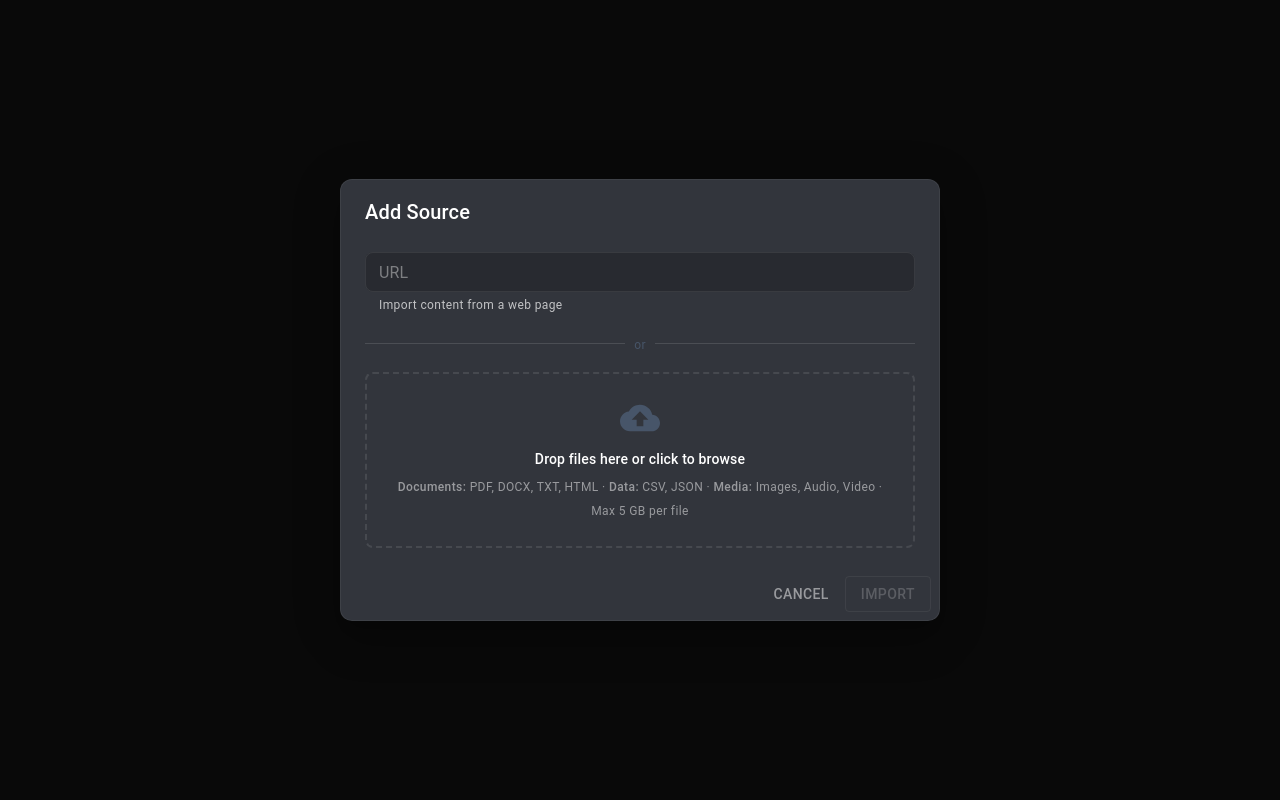
Test: <UploadDialog /> site offer › cannot import a site with every page deselected
Type "https://docs.example.com/docs" into the field labelled "URL" at (640, 272), box [365, 252, 915, 292]
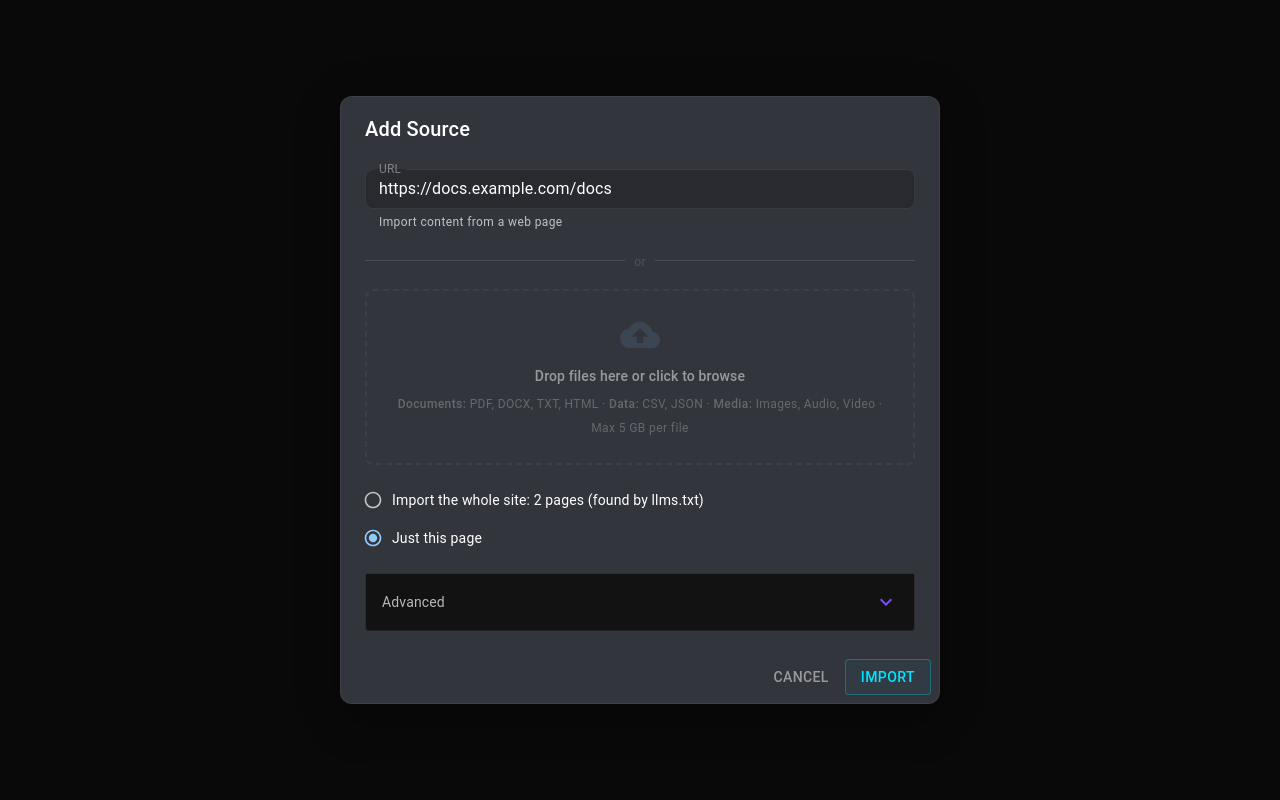
Click the radio button labelled "Import the whole site: 2 pages (found by llms.txt)" at (533, 500), box [363, 490, 704, 510]
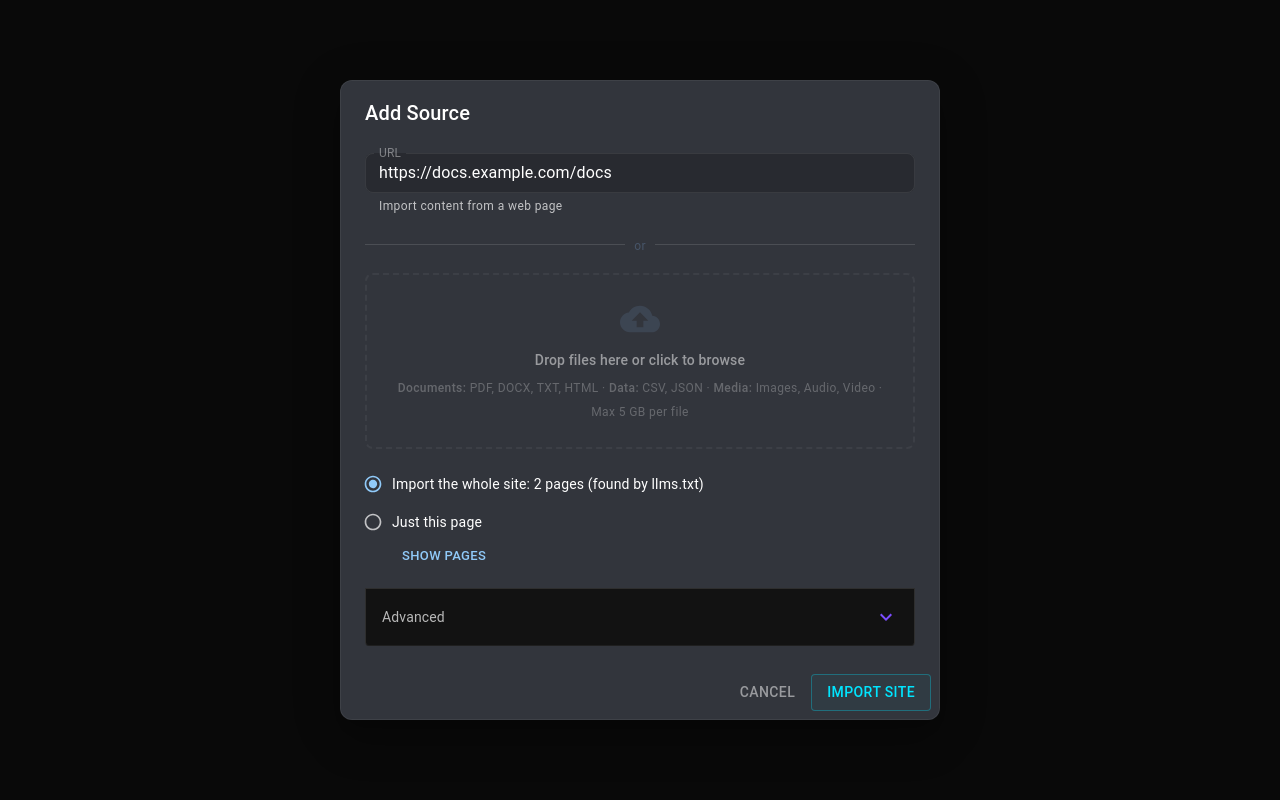
Click the button "Show pages" at (444, 557), box [397, 541, 491, 572]
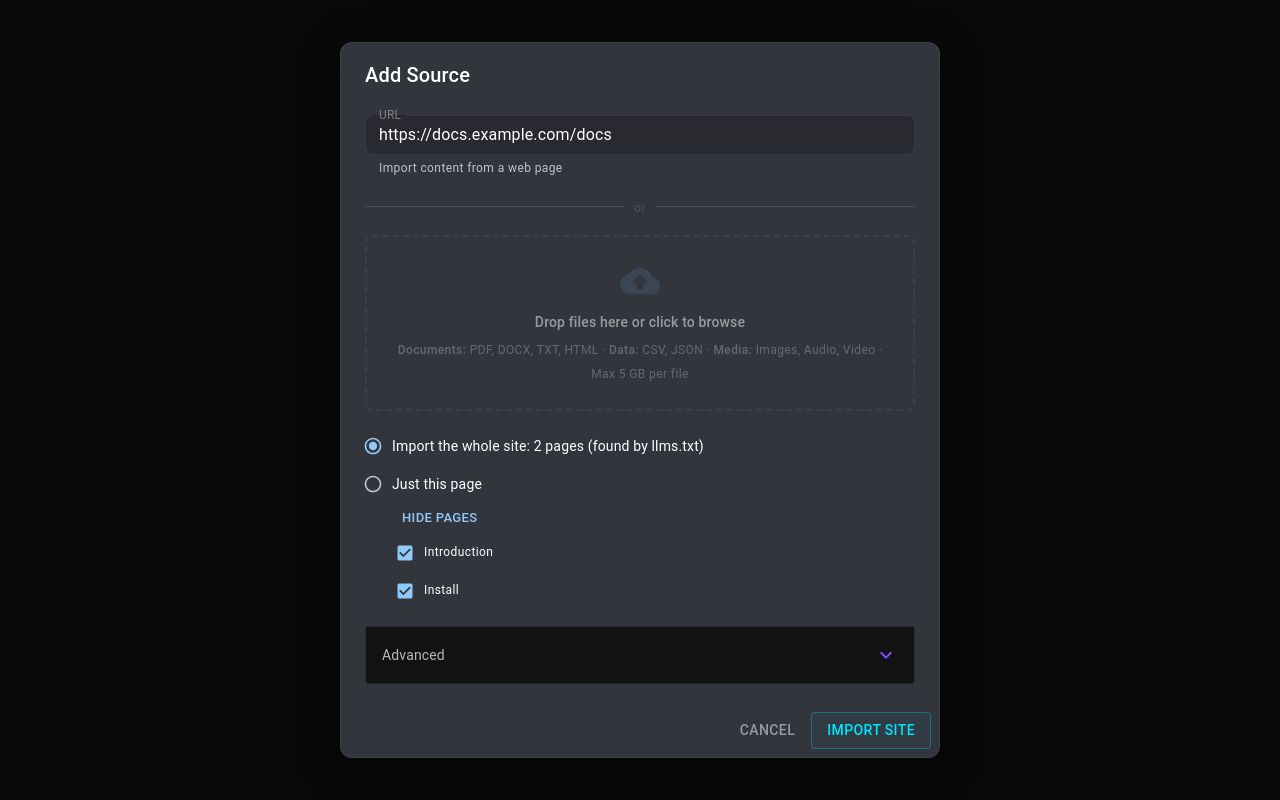
Click the checkbox labelled "Introduction" at (444, 553), box [395, 543, 493, 563]
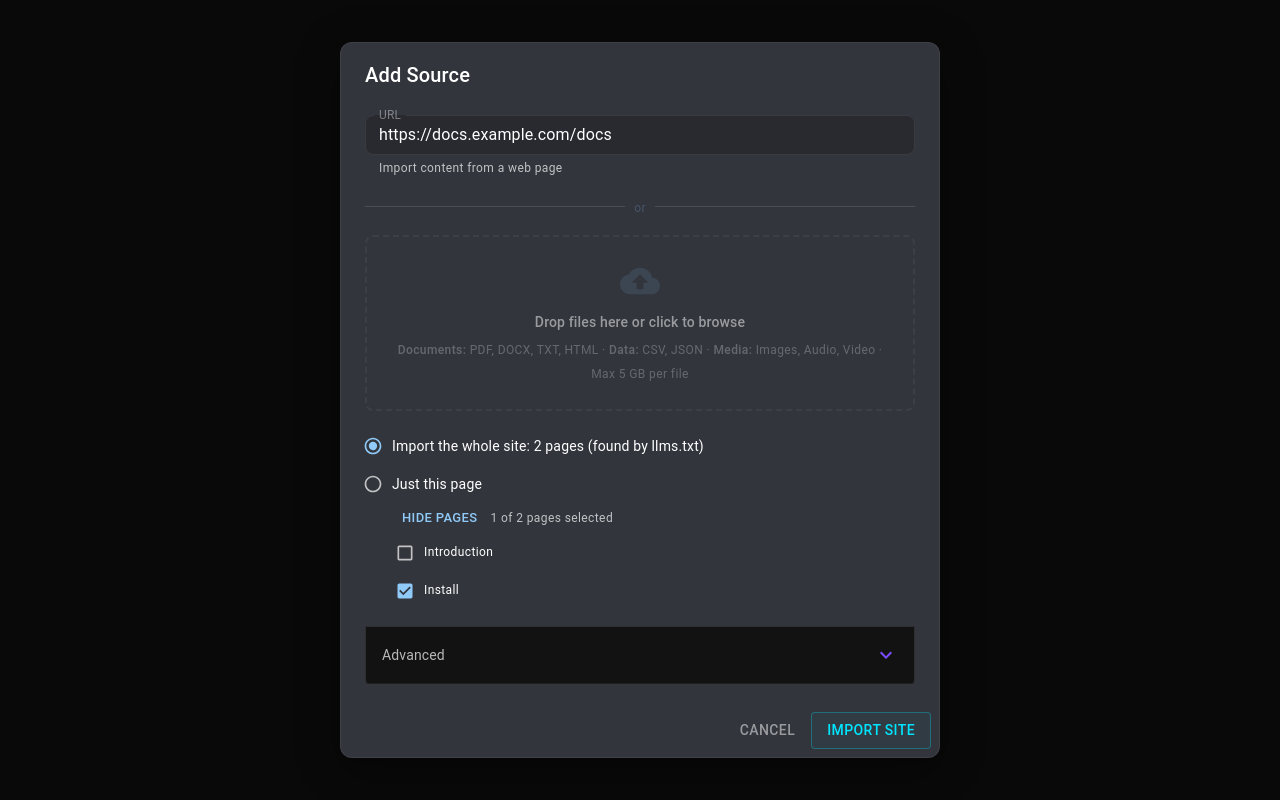
Click the checkbox labelled "Install" at (427, 591), box [395, 581, 459, 601]
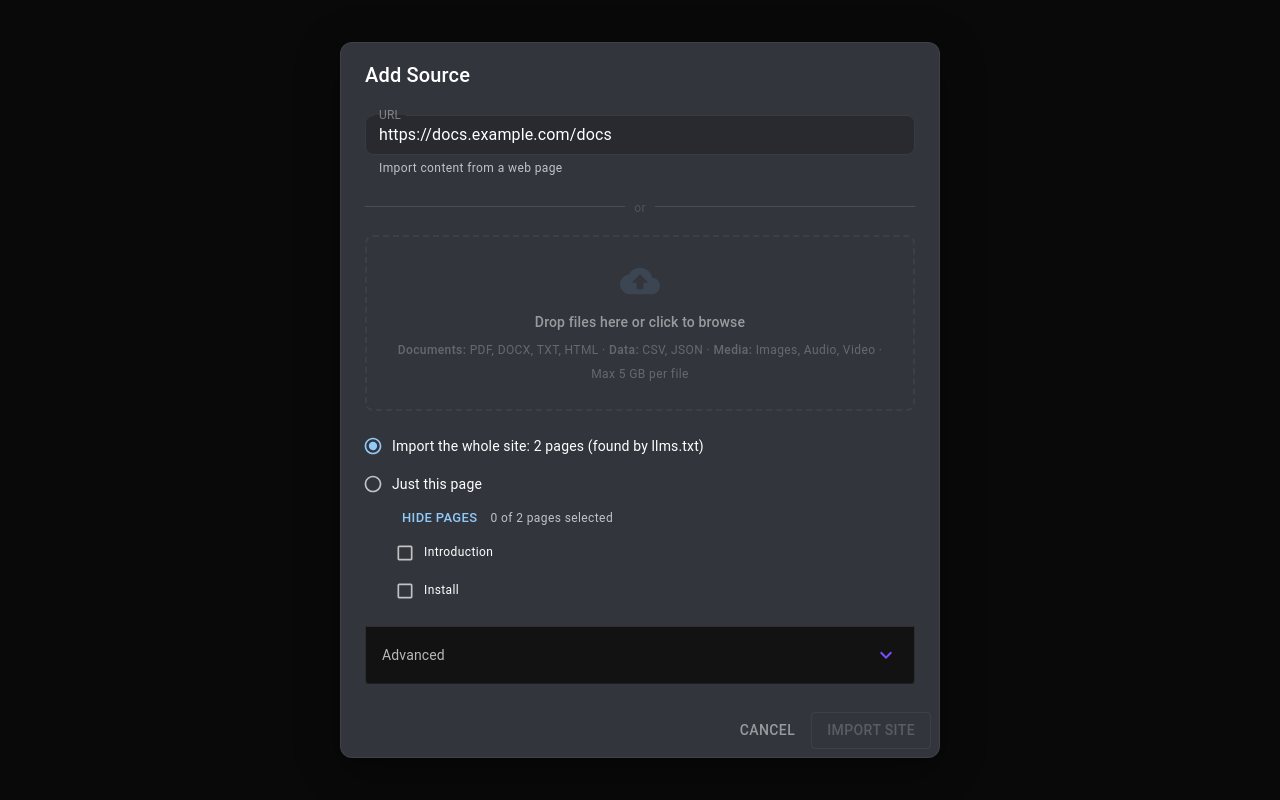
expect the button "Import site" is disabled: met, box [811, 712, 931, 748]
